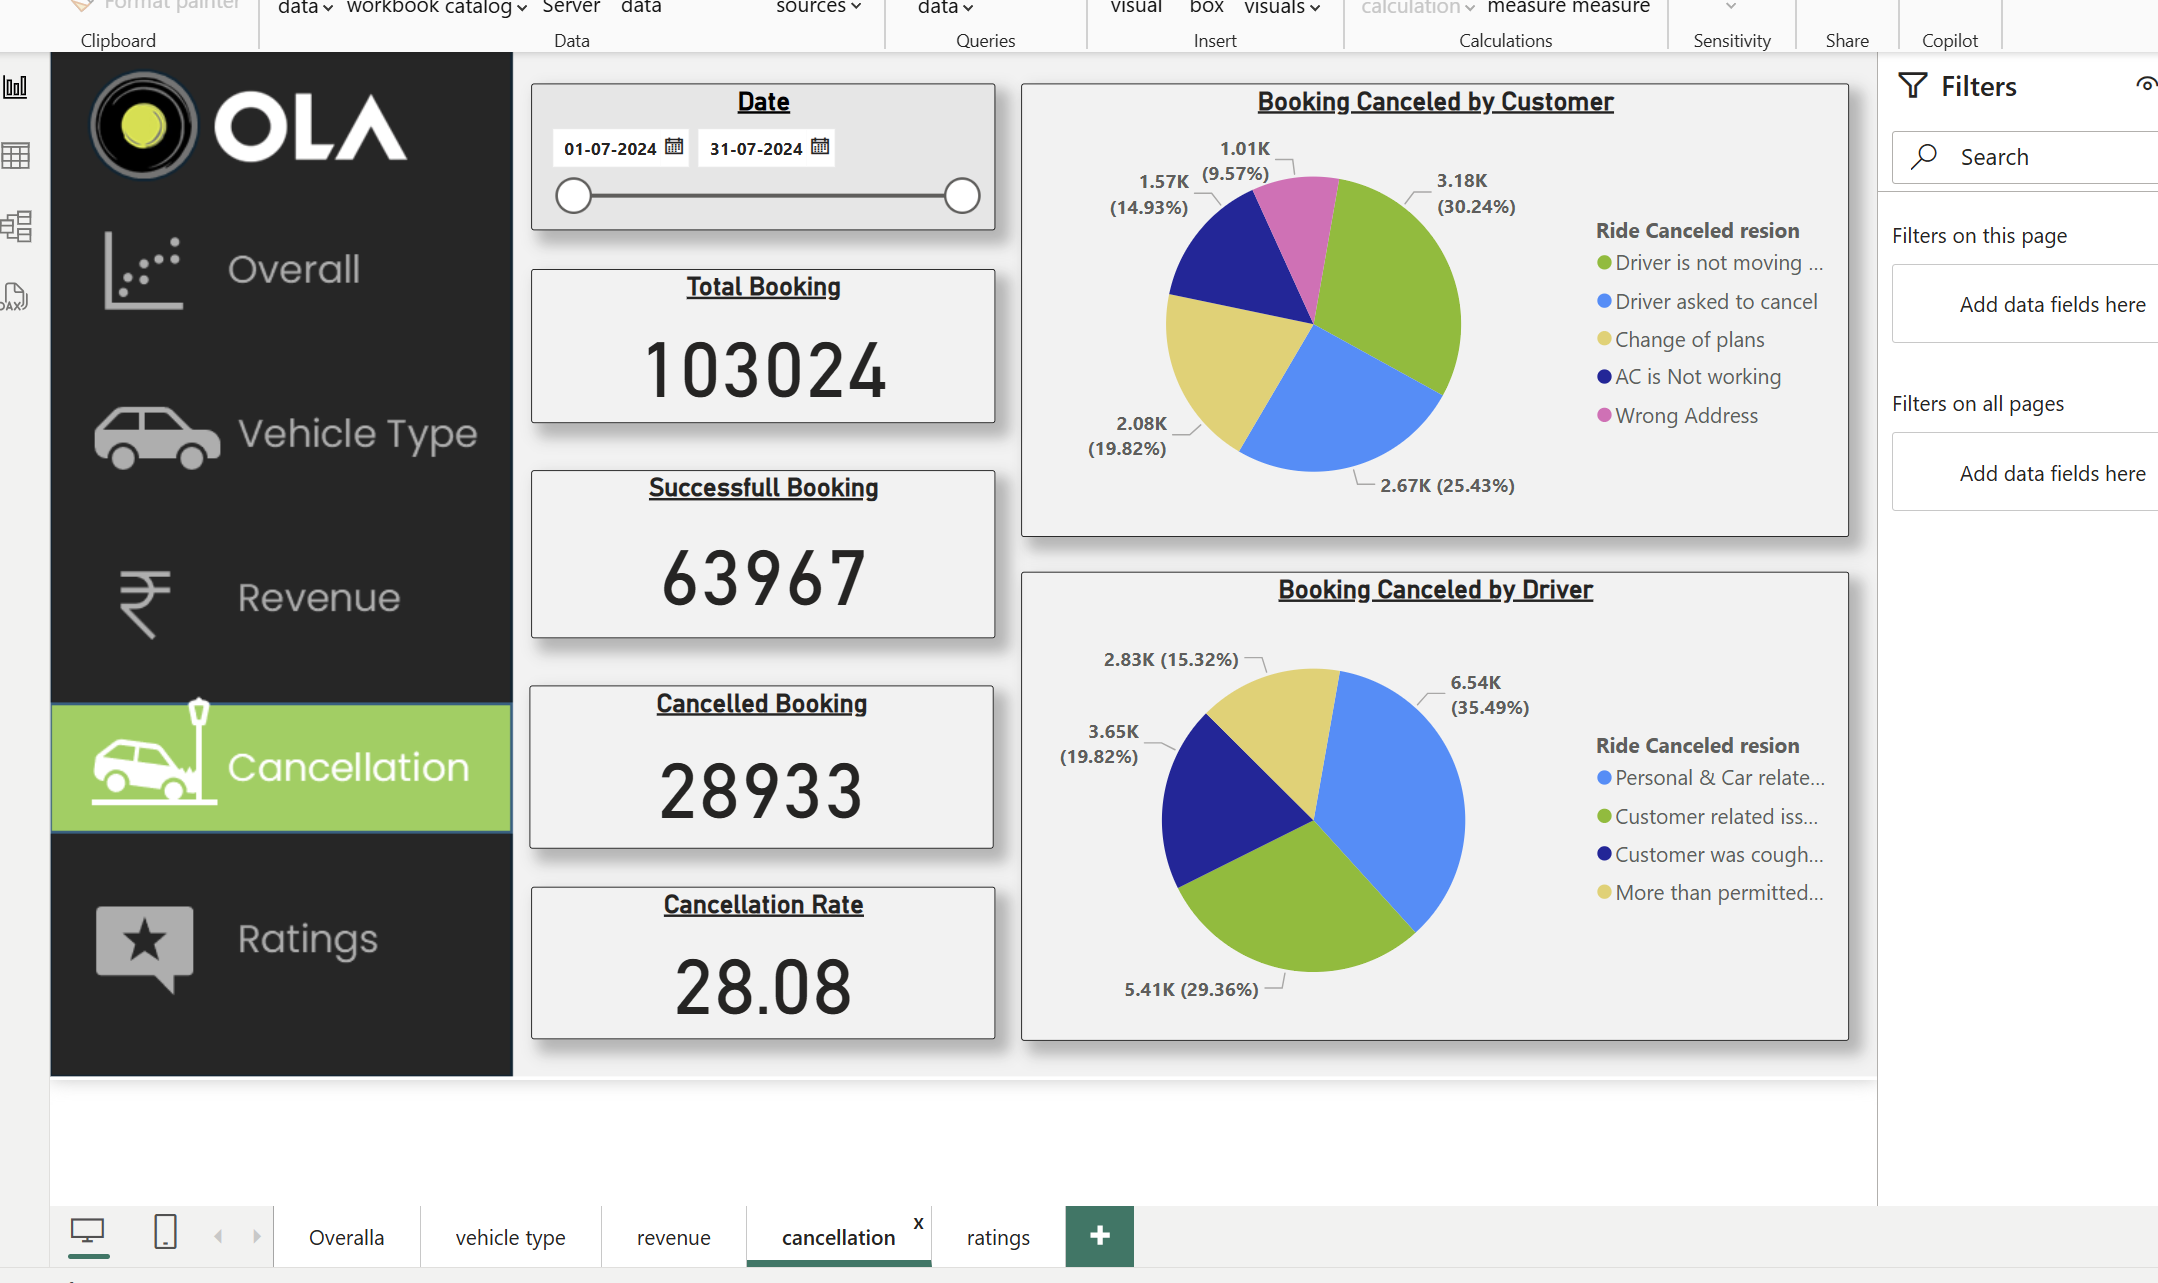

The page's visual inventory and layout, read from the dashboard file:
{"tool":"powerbi","page":{"name":"cancellation","canvas":[1280,720],"ordinal":3},"visuals":[{"type":"actionButton","box":[0,222.2,324.4,92.2],"z":0},{"type":"actionButton","box":[0,107.8,324.4,91.1],"z":1000},{"type":"actionButton","box":[0,350,324.4,81.1],"z":2000},{"type":"actionButton","box":[0,446.7,324.4,92.2],"z":3000},{"type":"actionButton","box":[0,583.3,324.4,93.3],"z":4000},{"type":"pieChart","title":"Booking Canceled by Customer","fields":{"Category":["olass.Canceled_Rides_by_Customer"],"Y":["CountNonNull(olass.Canceled_Rides_by_Customer)"]},"box":[680.5,22.1,579.9,317.5],"z":5000},{"type":"pieChart","title":"Booking Canceled by Driver","fields":{"Category":["olass.Canceled_Rides_by_Driver"],"Y":["CountNonNull(olass.Canceled_Rides_by_Driver)"]},"box":[680.5,364.1,579.9,328.6],"z":6000},{"type":"slicer","title":"Date","fields":{"Values":["olass.Date"]},"box":[337.2,22.1,324.9,103],"z":7000},{"type":"card","title":"Total Booking","fields":{"Values":["CountNonNull(olass.Booking_Status)"]},"box":[337.2,152,324.9,107.9],"z":8000},{"type":"card","title":"Successfull Booking","fields":{"Values":["CountNonNull(olass.Booking_Status)"]},"box":[337.2,293,324.9,117.7],"z":9000},{"type":"card","title":"Cancelled Booking","fields":{"Values":["CountNonNull(olass.Booking_Status)"]},"box":[335.9,443.8,324.9,114],"z":10000},{"type":"card","title":"Cancellation Rate","fields":{"Values":["olass.Canceled%"]},"box":[337.2,584.8,324.9,106.7],"z":10001}]}

Visuals, with their boxes on the page's 1280x720 design canvas (x1, y1, x2, y2). These are canvas units, not pixel positions in the 2158x1283 screenshot, which may show the page scaled, cropped or inside an application window:
actionButton: <box>0,222,324,314</box>
actionButton: <box>0,108,324,199</box>
actionButton: <box>0,350,324,431</box>
actionButton: <box>0,447,324,539</box>
actionButton: <box>0,583,324,677</box>
"Booking Canceled by Customer" pieChart: <box>680,22,1260,340</box>
"Booking Canceled by Driver" pieChart: <box>680,364,1260,693</box>
"Date" slicer: <box>337,22,662,125</box>
"Total Booking" card: <box>337,152,662,260</box>
"Successfull Booking" card: <box>337,293,662,411</box>
"Cancelled Booking" card: <box>336,444,661,558</box>
"Cancellation Rate" card: <box>337,585,662,692</box>
